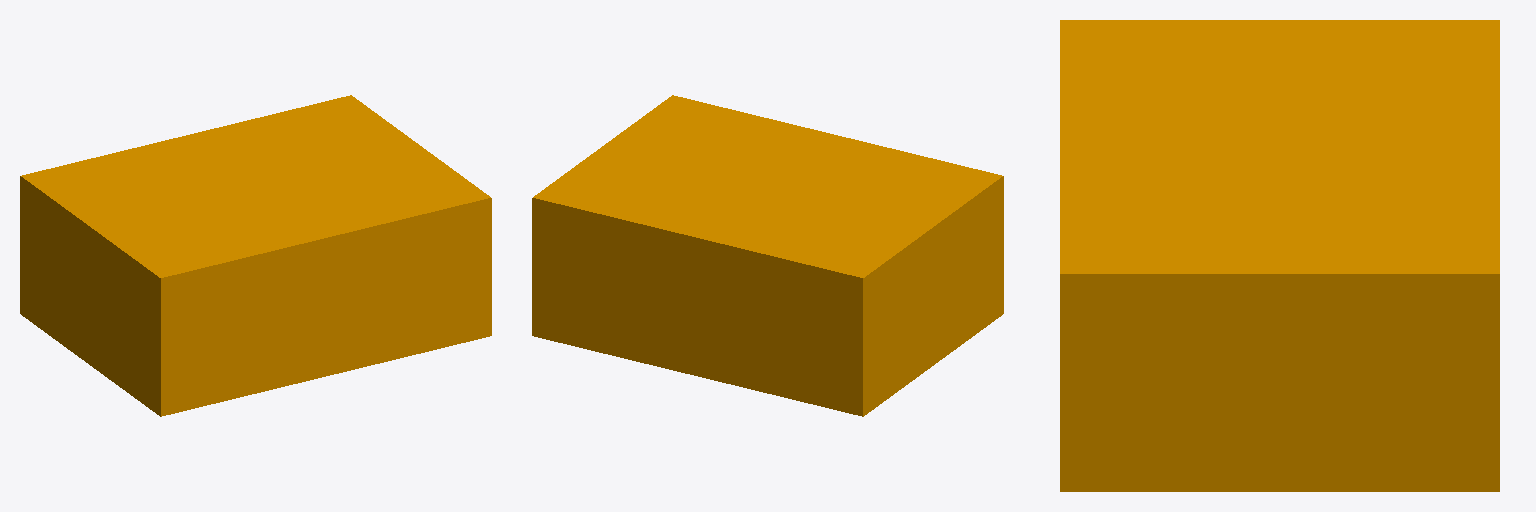
The robot description file, URDF, robot "2x2":
<?xml version='1.0' encoding='UTF-8'?>
<robot name="2x2">
  <link name="base_link">
    <inertial>
      <origin xyz="0.0 0.0 0.0" rpy="0.0 0.0 0.0"/>
      <mass value="0.01"/>
      <inertia ixx="0.1" ixy="0.0" ixz="0.0" iyy="0.1" iyz="0.0" izz="0.1"/>
    </inertial>
    <visual>
      <geometry>
        <box size="0.03  0.022 0.012"/>
      </geometry>
      <material name=""/>
      <origin xyz="0.0 0.0 0.0" rpy="0.0 0.0 0.0"/>
    </visual>
    <collision>
      <geometry>
        <box size="0.03  0.022 0.012"/>
      </geometry>
      <origin xyz="0.0 0.0 0.0" rpy="0.0 0.0 0.0"/>
    </collision>
  </link>
  <material name="">
    <color rgba="0.101 0.384 0.091 1.   "/>
  </material>
  <contact>
    <lateral_friction value="1.0"/>
    <rolling_friction value="0.0"/>
    <contact_cfm value="0.0"/>
    <contact_erp value="1.0"/>
  </contact>
</robot>

--- Render facts (derived) ---
The picture shows the robot from 3 angles, left to right: view 1: azimuth 30°, elevation 25°; view 2: azimuth 150°, elevation 25°; view 3: azimuth 270°, elevation 25°; orthographic projection.
Model 2x2 with 1 links and 0 joints (none), rooted at base_link, posed every joint at zero.
Links seen in each view (by area): view 1: base_link; view 2: base_link; view 3: base_link.
Boxes of the visible links, x1=… form: base_link: x1=20, y1=95, x2=491, y2=416; base_link: x1=532, y1=95, x2=1003, y2=416; base_link: x1=1060, y1=20, x2=1499, y2=491.
Bounding box of the posed robot: 0.03 × 0.022 × 0.012 m (x, y, z).
Geometry: primitives only (box / cylinder / sphere), no mesh files.